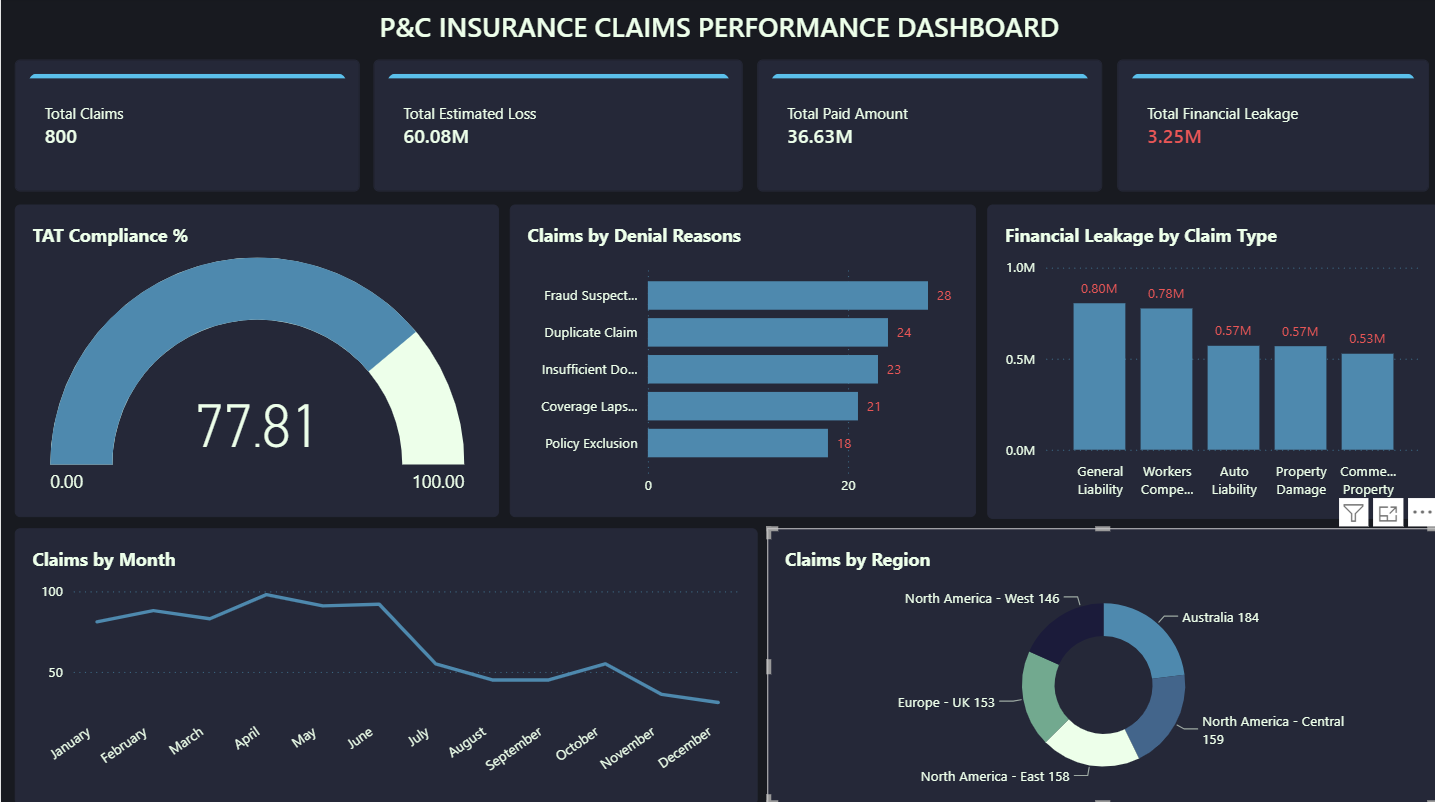

The page's visual inventory and layout, read from the dashboard file:
{"tool":"powerbi","page":{"name":"P&C Insurance Claims Performance Dashboard","canvas":[1280,720],"ordinal":0},"visuals":[{"type":"cardVisual","fields":{"Data":["CountNonNull(PC_Claims_Dataset.Claim_ID)"]},"box":[12,55.2,307.4,117.7],"z":0},{"type":"cardVisual","fields":{"Data":["Sum(PC_Claims_Dataset.Estimated_Loss_USD)"]},"box":[331.4,55.2,329,117.7],"z":1000},{"type":"cardVisual","fields":{"Data":["Sum(PC_Claims_Dataset.Paid_Amount_USD)"]},"box":[673.6,55.2,307.4,117.7],"z":2000},{"type":"cardVisual","fields":{"Data":["PC_Claims_Dataset.Total_Leakage"]},"box":[994.2,55.2,277.4,117.7],"z":3000},{"type":"gauge","fields":{"Y":["PC_Claims_Dataset.TAT_Compliance_Pct"]},"box":[12,184.9,431.1,278.6],"z":4000},{"type":"clusteredBarChart","fields":{"Category":["PC_Claims_Dataset.Denial_Reason"],"Y":["CountNonNull(PC_Claims_Dataset.Claim_ID)"]},"box":[452.7,184.9,415.5,278.6],"z":5000},{"type":"columnChart","fields":{"Category":["PC_Claims_Dataset.Claim_Type"],"Y":["PC_Claims_Dataset.Total_Leakage"]},"box":[877.7,184.9,402.3,279.8],"z":6000},{"type":"lineChart","fields":{"Category":["PC_Claims_Dataset.Date_Filed.Variation.Date Hierarchy.Month"],"Y":["CountNonNull(PC_Claims_Dataset.Claim_ID)"]},"box":[12,473.1,661.6,247.4],"z":7000},{"type":"donutChart","fields":{"Category":["PC_Claims_Dataset.Region"],"Y":["CountNonNull(PC_Claims_Dataset.Claim_ID)"]},"box":[682,473.1,598,247.4],"z":8000},{"type":"textbox","box":[194.5,9.6,889.8,33.6],"z":8001}]}

Visuals, with their boxes in screenshot pixels (x1, y1, x2, y2), scaled from the page's 1280x720 canvas onto the 1435x802 screenshot:
cardVisual - CountNonNull(PC_Claims_Dataset.Claim_ID): region(13, 61, 358, 193)
cardVisual - Sum(PC_Claims_Dataset.Estimated_Loss_USD): region(372, 61, 740, 193)
cardVisual - Sum(PC_Claims_Dataset.Paid_Amount_USD): region(755, 61, 1100, 193)
cardVisual - PC_Claims_Dataset.Total_Leakage: region(1115, 61, 1426, 193)
gauge - PC_Claims_Dataset.TAT_Compliance_Pct: region(13, 206, 497, 516)
clusteredBarChart - PC_Claims_Dataset.Denial_Reason x CountNonNull(PC_Claims_Dataset.Claim_ID): region(508, 206, 973, 516)
columnChart - PC_Claims_Dataset.Claim_Type x PC_Claims_Dataset.Total_Leakage: region(984, 206, 1434, 518)
lineChart - PC_Claims_Dataset.Date_Filed.Variation.Date Hierarchy.Month x CountNonNull(PC_Claims_Dataset.Claim_ID): region(13, 527, 755, 801)
donutChart - PC_Claims_Dataset.Region x CountNonNull(PC_Claims_Dataset.Claim_ID): region(765, 527, 1434, 801)
textbox: region(218, 11, 1216, 48)
